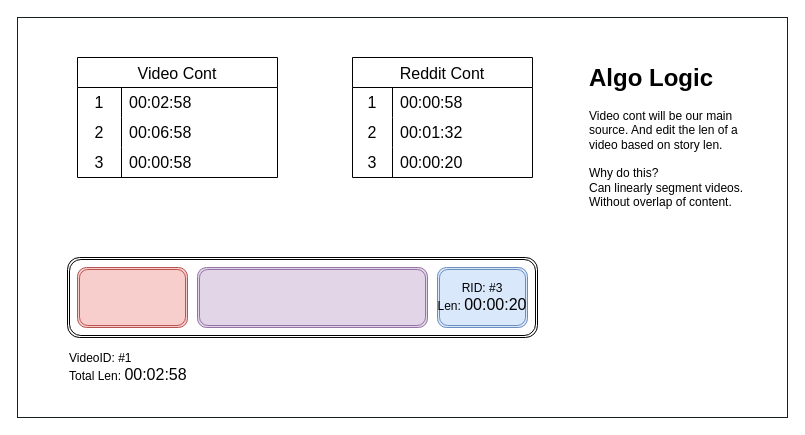
Image size: 805x435. Some labels were removed from this diagram. The centre of each missing label's shape, as x and y in pixels:
"RID: #1 Len: 00:00:58" belongs at (132,297).
"RID: #2 Len: 00:01:32" belongs at (312,297).
